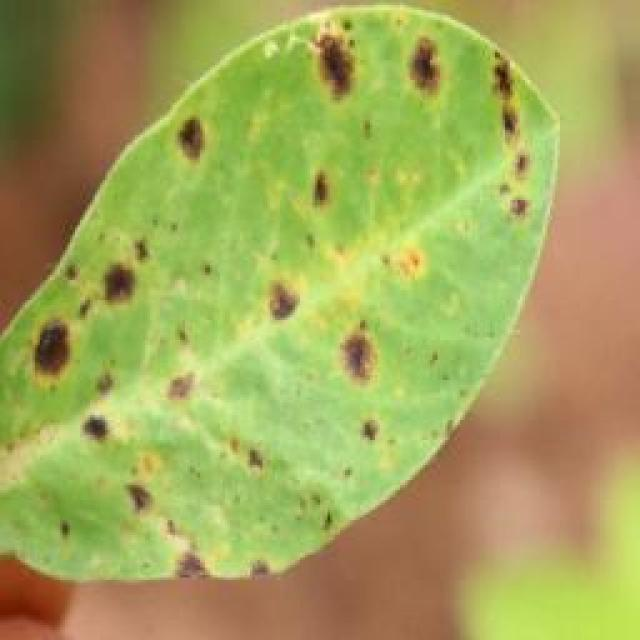Yellowish: (1, 0, 557, 577)
